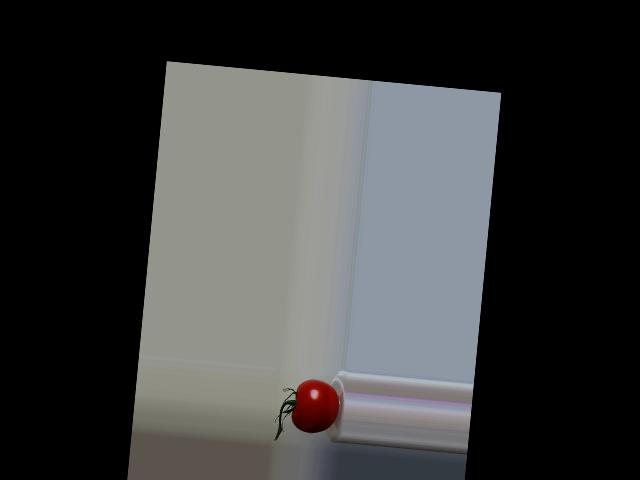tomato: (290, 378, 341, 435)
